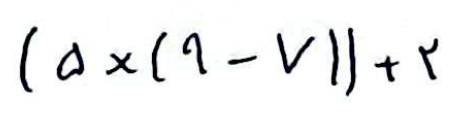character: (277, 34, 316, 74), (19, 26, 39, 92), (55, 41, 86, 81), (183, 33, 207, 75), (344, 27, 357, 96), (150, 32, 167, 83), (419, 37, 439, 80), (105, 52, 136, 76), (375, 55, 400, 83), (329, 27, 340, 84), (228, 54, 258, 66)
